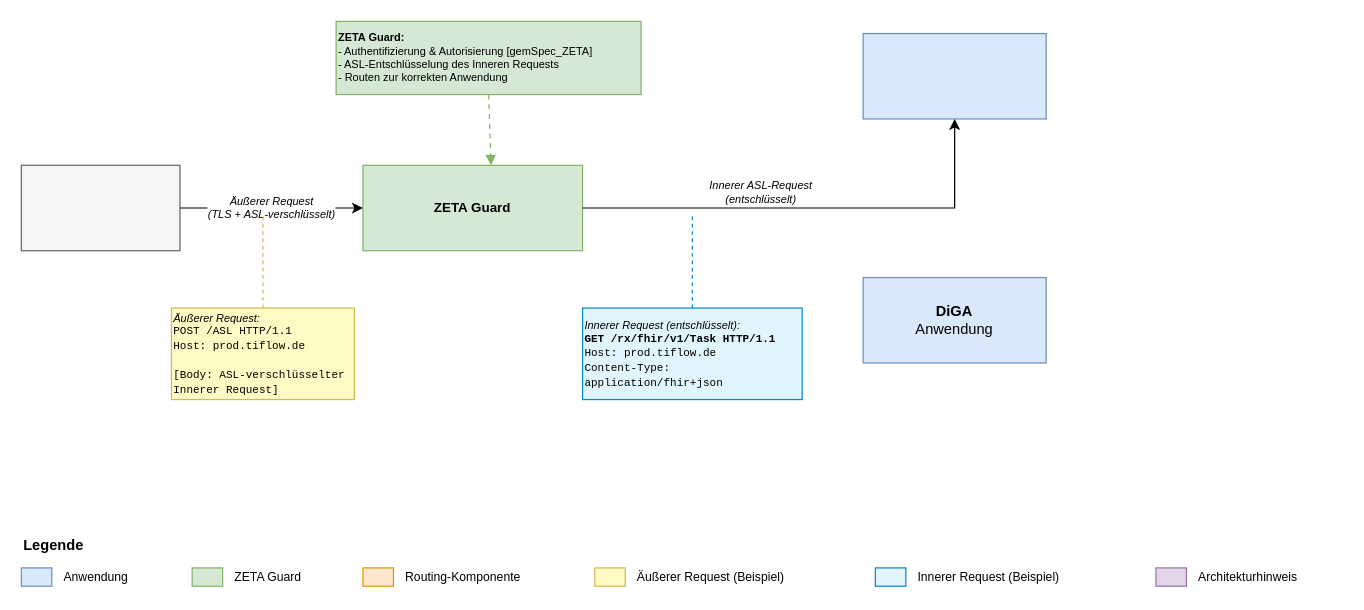
Some shapes in this 1364 by 610 pixel diagram are drawn without their labels. The shapes that lost their labels are listed below. From the top down, each one's centre as x and y in pixels, then its label:
At (x=954, y=75): "E-Rezept Anwendung".
At (x=100, y=207): "Client".
